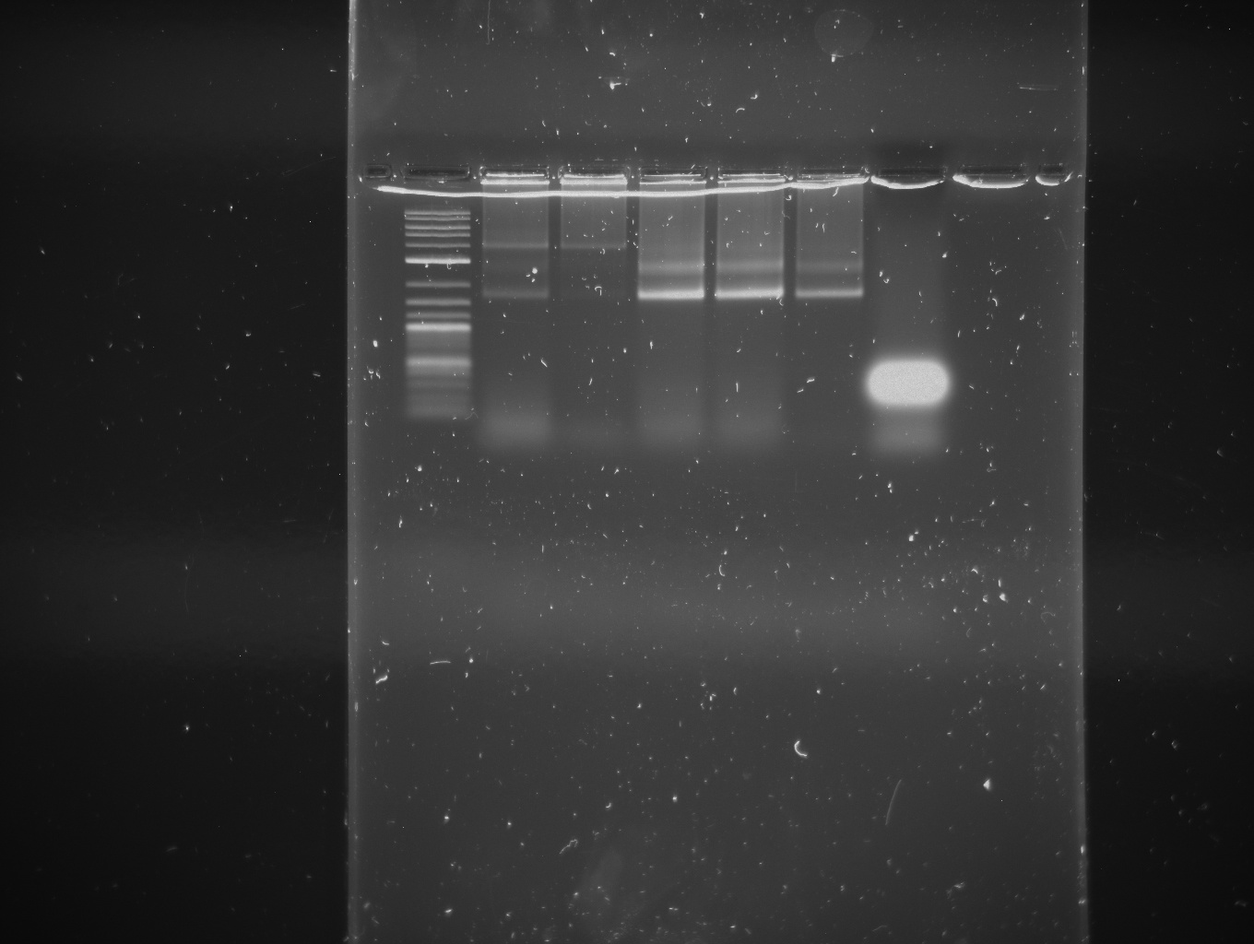Lane: (867, 90, 952, 944), (636, 85, 709, 944), (715, 83, 786, 944), (556, 85, 627, 938), (791, 88, 860, 944), (957, 92, 1025, 944), (482, 78, 547, 944), (1033, 94, 1082, 944)
ladder: (406, 69, 471, 944)
